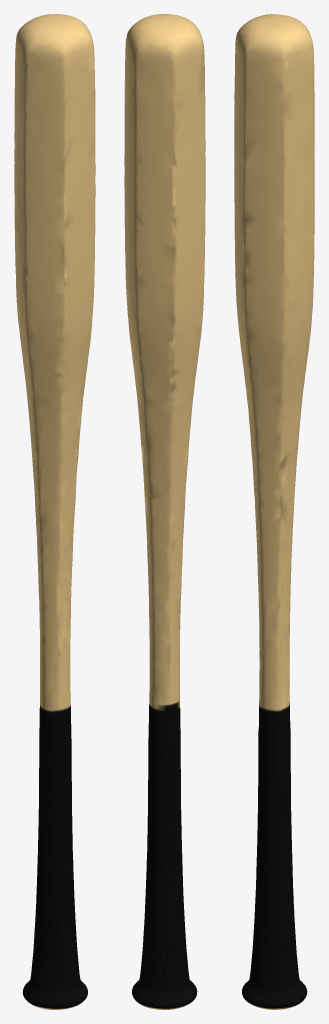
File: Meshy_AI_Baseball_bat_0910041756_texture.fbx
3 views of the same model, side by side, from view 1: azimuth 30°, elevation 25°; view 2: azimuth 210°, elevation 25°; view 3: azimuth 330°, elevation 25° (orthographic).
Visible parts, largest first — view 1: Mesh_0; view 2: Mesh_0; view 3: Mesh_0.
Part boxes in pixels (bbox=[...]): Mesh_0: bbox=[14, 14, 95, 1009]; Mesh_0: bbox=[124, 14, 205, 1009]; Mesh_0: bbox=[234, 14, 314, 1009].
Size of the model in its own units: 14.16 by 190 by 14.12.
Materials: 1 (1 with a texture image).
